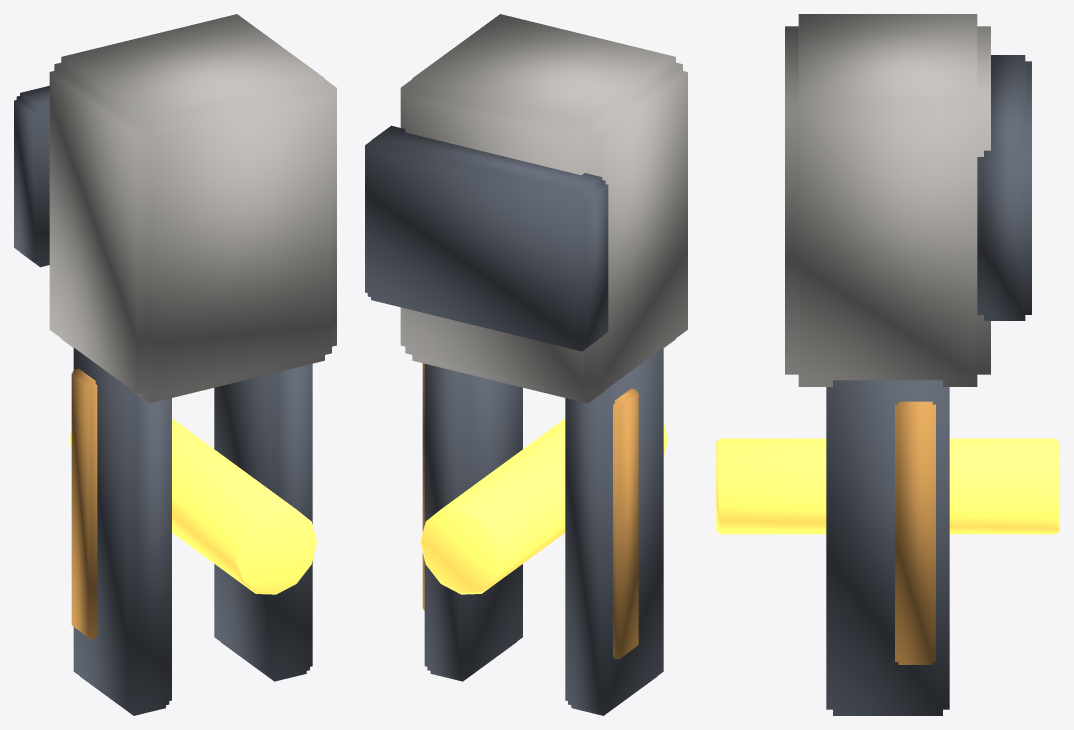
The model's file is plasma.glb.
The picture shows the model from 3 angles, left to right: view 1: azimuth 30°, elevation 25°; view 2: azimuth 150°, elevation 25°; view 3: azimuth 270°, elevation 25°; orthographic projection.
Visible parts, largest first — view 1: plasma; view 2: plasma; view 3: plasma.
Part boxes in pixels (x1,y1,x2,y2): plasma: [14, 14, 336, 715]; plasma: [365, 14, 687, 715]; plasma: [716, 14, 1059, 715].
Size of the model in its own units: 0.38 by 0.99 by 0.5.
